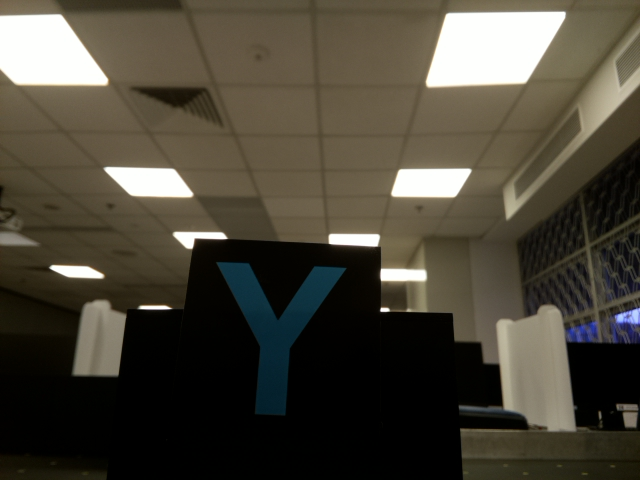y: (209, 253, 353, 426)
